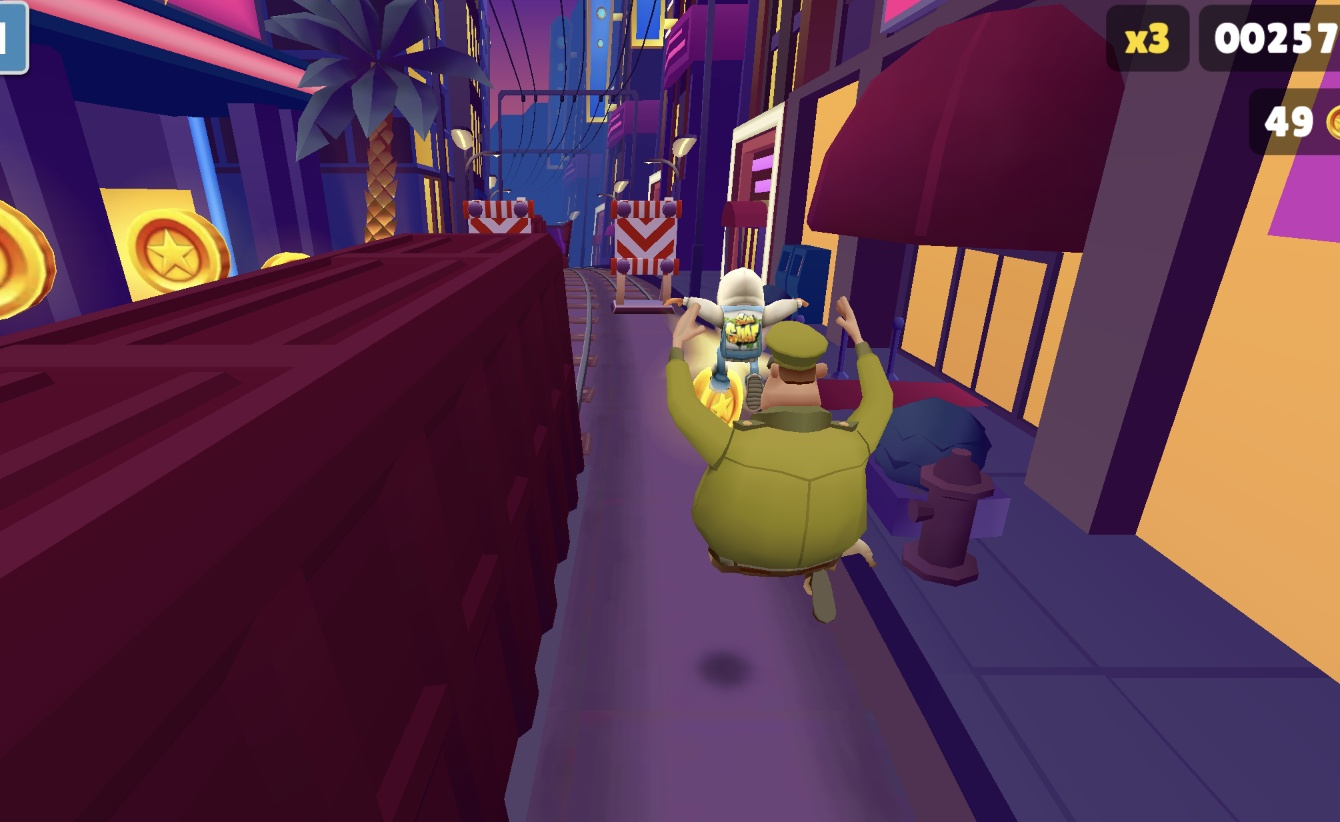overhead_barrier: (608, 196, 683, 312), (460, 198, 540, 251)
train: (0, 220, 588, 822), (554, 215, 601, 261)
